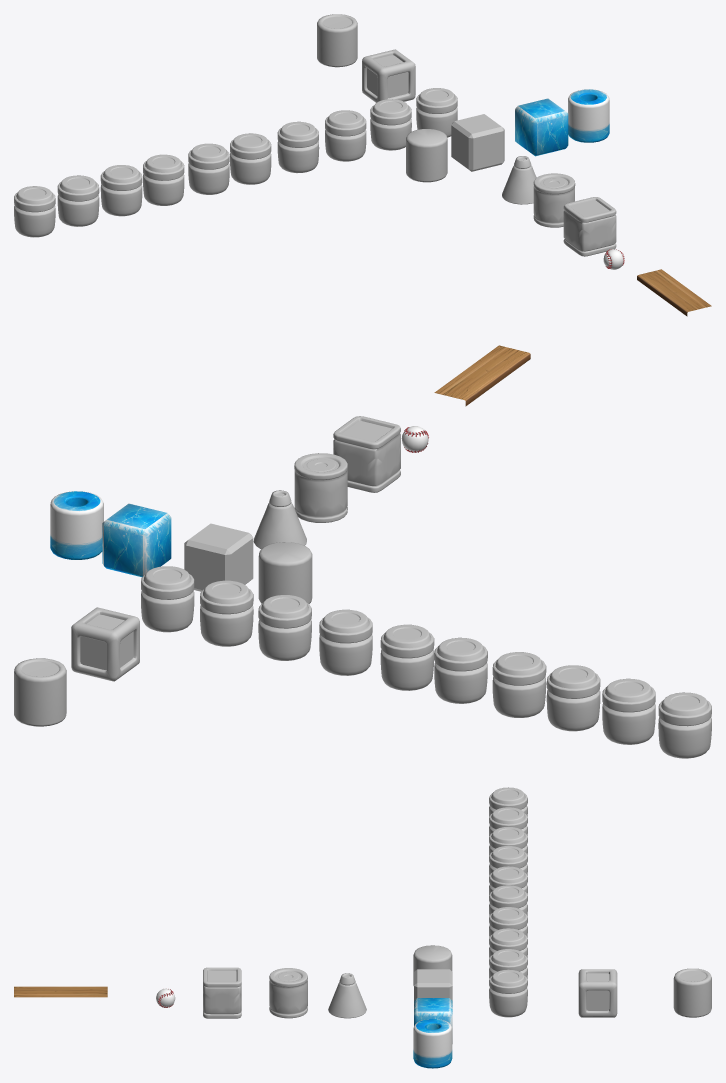
The model's file is Demo.fbx.
3 renders of one model, top to bottom at view 1: azimuth 30°, elevation 25°; view 2: azimuth 150°, elevation 25°; view 3: azimuth 270°, elevation 25°, orthographic. The views are drawn at different scales.
Visible parts, largest first — view 1: Box, Ice, Rock, Wood, Ice_Cylinder, Rock_Cylinder, Tree, Cylinder, Table_Player, Cone, Glass_Lightrose, Glass_Red (+18 smaller); view 2: Wood, Ice, Box, Rock, Cylinder, Ice_Cylinder, Tree, Rock_Cylinder, Table_Player, Cone, Glass_Cyan, Glass_Orange (+18 smaller); view 3: Box, Wood, Cylinder, Ice_Cylinder, Tree, Cone, Rock, Table_Player, Rock_Cylinder, Ice, Glass_Orange, Lid_Orange (+9 smaller).
Part boxes in pixels (left/top/right/bottom): Box: left=563, top=197, right=616, bottom=256; Ice: left=515, top=98, right=568, bottom=156; Rock: left=451, top=114, right=504, bottom=171; Wood: left=362, top=49, right=415, bottom=102; Ice_Cylinder: left=568, top=89, right=609, bottom=142; Rock_Cylinder: left=406, top=129, right=447, bottom=182; Tree: left=317, top=14, right=357, bottom=67; Cylinder: left=533, top=173, right=575, bottom=227; Table_Player: left=637, top=269, right=711, bottom=316; Cone: left=502, top=156, right=536, bottom=204; Glass_Lightrose: left=57, top=195, right=99, bottom=226; Glass_Red: left=100, top=184, right=142, bottom=216; Wood: left=71, top=607, right=139, bottom=681; Ice: left=102, top=503, right=171, bottom=577; Box: left=333, top=416, right=400, bottom=492; Rock: left=184, top=523, right=253, bottom=591; Cylinder: left=294, top=453, right=347, bottom=522; Ice_Cylinder: left=50, top=491, right=103, bottom=559; Tree: left=14, top=658, right=66, bottom=726; Rock_Cylinder: left=258, top=542, right=312, bottom=603; Table_Player: left=434, top=345, right=530, bottom=406; Cone: left=253, top=490, right=306, bottom=549; Glass_Cyan: left=380, top=649, right=434, bottom=690; Glass_Orange: left=141, top=591, right=194, bottom=632; Box: left=203, top=967, right=241, bottom=1018; Wood: left=578, top=969, right=617, bottom=1017; Cylinder: left=269, top=968, right=307, bottom=1018; Ice_Cylinder: left=413, top=1019, right=452, bottom=1068; Tree: left=673, top=968, right=711, bottom=1017; Cone: left=328, top=973, right=366, bottom=1018; Rock: left=414, top=969, right=452, bottom=1000; Table_Player: left=14, top=986, right=107, bottom=997; Rock_Cylinder: left=413, top=945, right=452, bottom=985; Ice: left=414, top=998, right=452, bottom=1043; Glass_Orange: left=489, top=988, right=527, bottom=1017; Lid_Orange: left=489, top=969, right=527, bottom=993.
Bounding box in the file's own units: 15.18 × 1.02 × 17.98.
